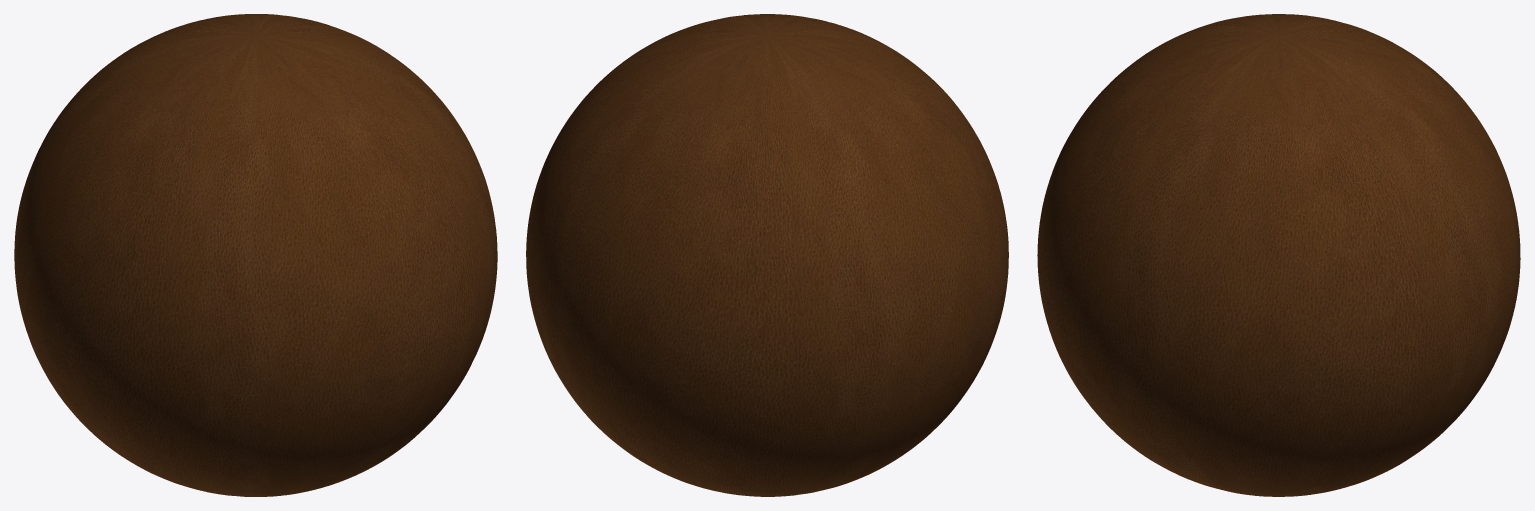
File: brown_leather.glb
3 renders of one model, left to right at view 1: azimuth 30°, elevation 25°; view 2: azimuth 150°, elevation 25°; view 3: azimuth 270°, elevation 25°, orthographic.
Visible parts, largest first — view 1: sphere_gltf; view 2: sphere_gltf; view 3: sphere_gltf.
Part boxes in pixels (x1,y1,x2,y2): sphere_gltf: [14, 14, 497, 496]; sphere_gltf: [526, 14, 1008, 496]; sphere_gltf: [1037, 14, 1520, 496].
Bounding box in the file's own units: 0.4 × 0.4 × 0.4.
1 material, 1 textured.
